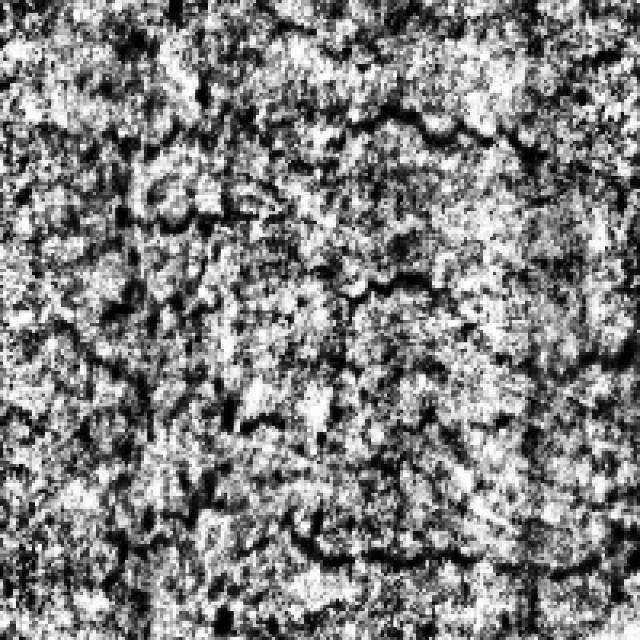Pitted_Surface: (74, 390, 630, 596), (84, 83, 630, 240), (60, 269, 628, 381)
